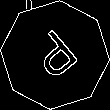P_SE: (25, 24, 85, 86)
